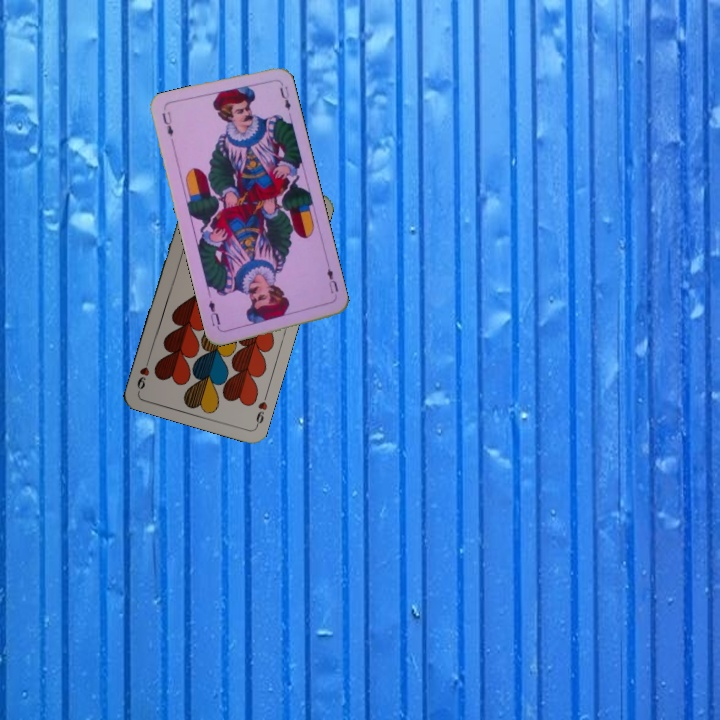EU: (323, 264, 341, 296), (158, 107, 176, 139)
H9: (252, 389, 270, 429)
